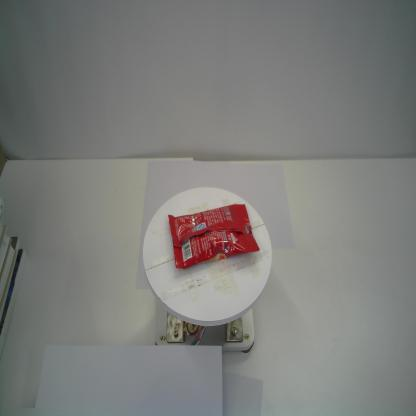Instant Drink: (167, 203, 260, 270)
